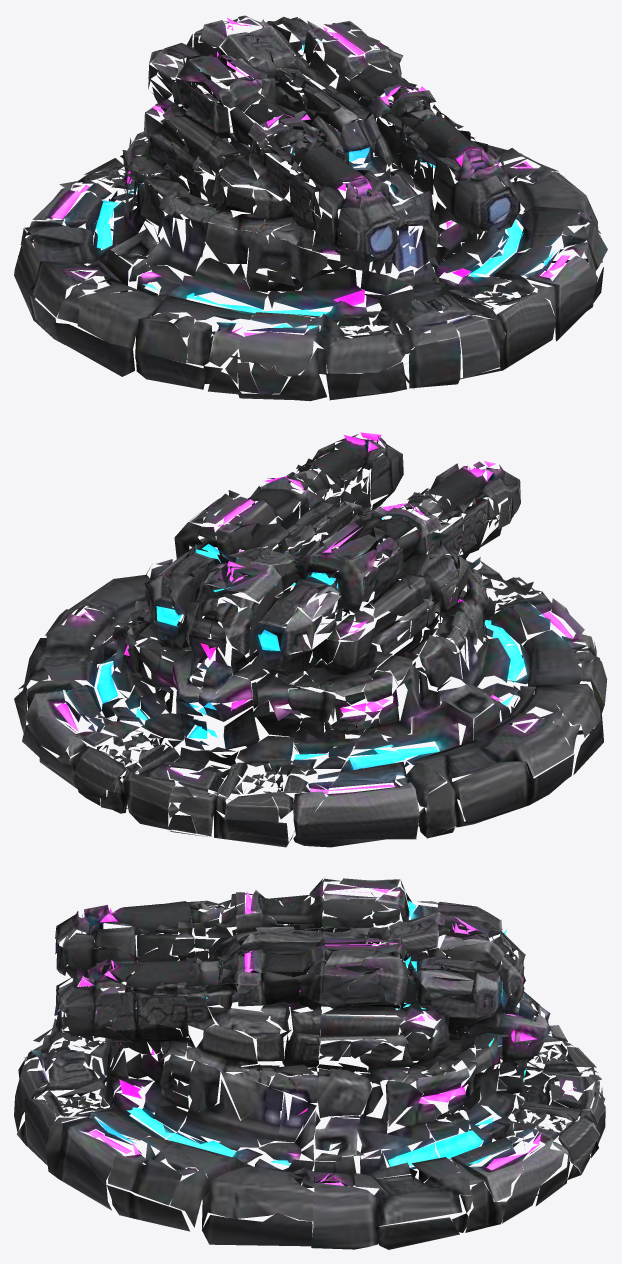
File: warrior-1-tier-3.glb
3 views of the same model, one above another, from view 1: azimuth 30°, elevation 25°; view 2: azimuth 150°, elevation 25°; view 3: azimuth 270°, elevation 25° (orthographic).
Parts seen in each view (by area): view 1: fixed-platform, moving-assembly; view 2: fixed-platform, moving-assembly; view 3: moving-assembly, fixed-platform.
Boxes of the visible parts, bbox=[...] form: fixed-platform: bbox=[14, 124, 607, 401]; moving-assembly: bbox=[122, 15, 519, 283]; fixed-platform: bbox=[14, 540, 607, 847]; moving-assembly: bbox=[124, 432, 520, 723]; moving-assembly: bbox=[54, 878, 550, 1128]; fixed-platform: bbox=[14, 958, 605, 1249].
Size of the model in its own units: 0.8388 by 0.3469 by 0.8322.
Materials: 3 (3 with a texture image).
